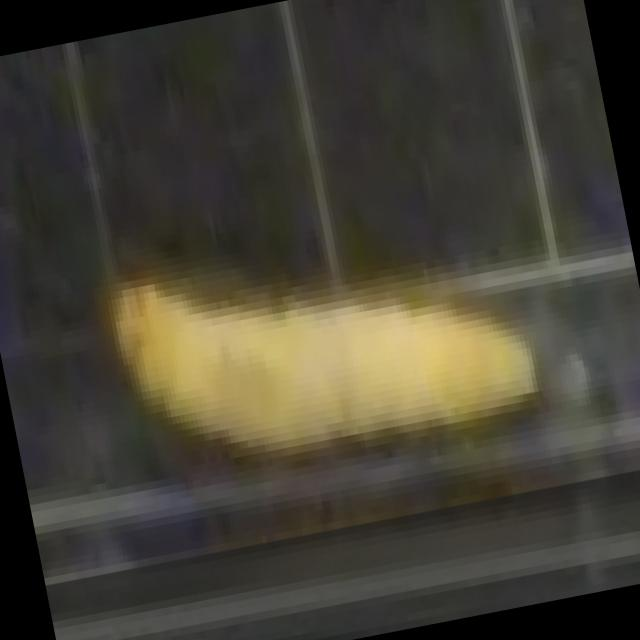larva: (97, 198, 548, 490)
